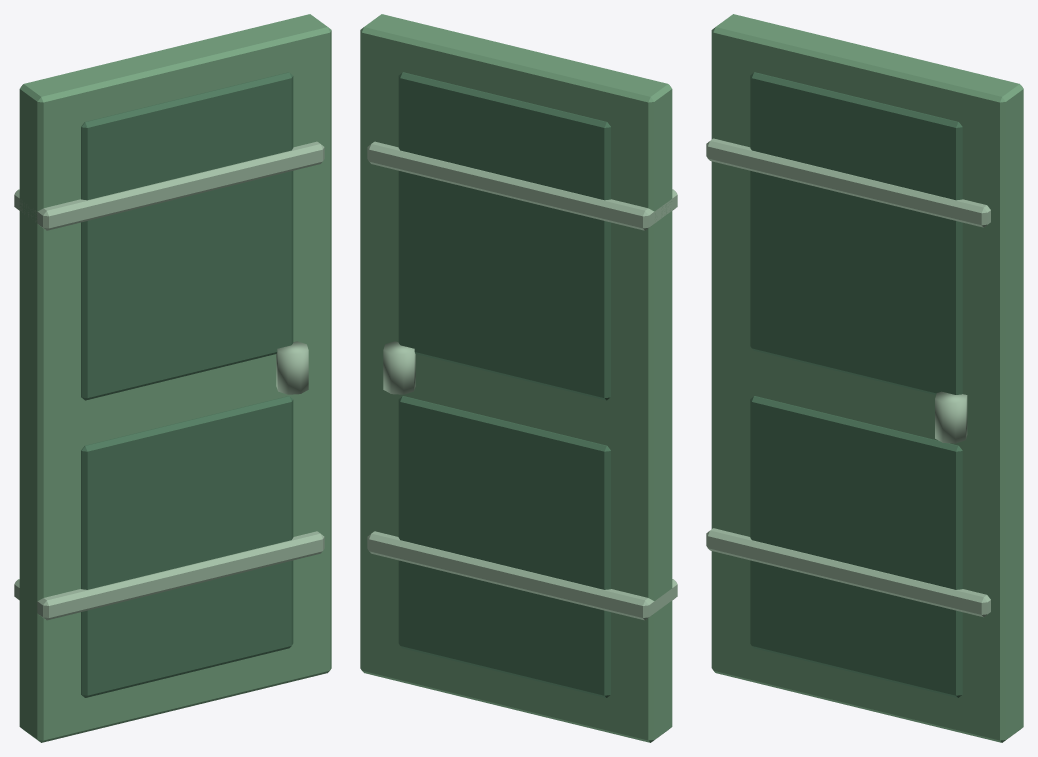
Rendered from green_dungeon_door_v0.glb.
3 renders of one model, left to right at view 1: azimuth 30°, elevation 25°; view 2: azimuth 150°, elevation 25°; view 3: azimuth 330°, elevation 25°, orthographic.
Visible parts, largest first — view 1: green_dungeon_door_v0; view 2: green_dungeon_door_v0; view 3: green_dungeon_door_v0.
Boxes of the visible parts, x1,y1,x2,y2 form: green_dungeon_door_v0: (14,14,331,742); green_dungeon_door_v0: (360,14,677,742); green_dungeon_door_v0: (706,14,1023,742).
Size of the model in its own units: 0.92 by 1.93 by 0.27.
